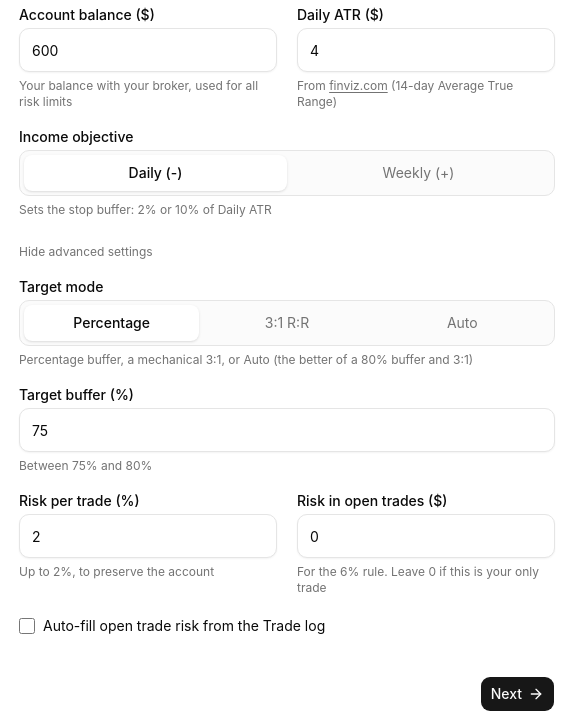
Scenario: given the advanced settings caps › given a risk above 2%: should snap the field down to 2 on blur
This screenshot has width=575, height=728.
(page scrolled)
Replace the text in the number field labelled "Risk per trade (%)" with "5" at [148, 536], box [19,514,277,558]
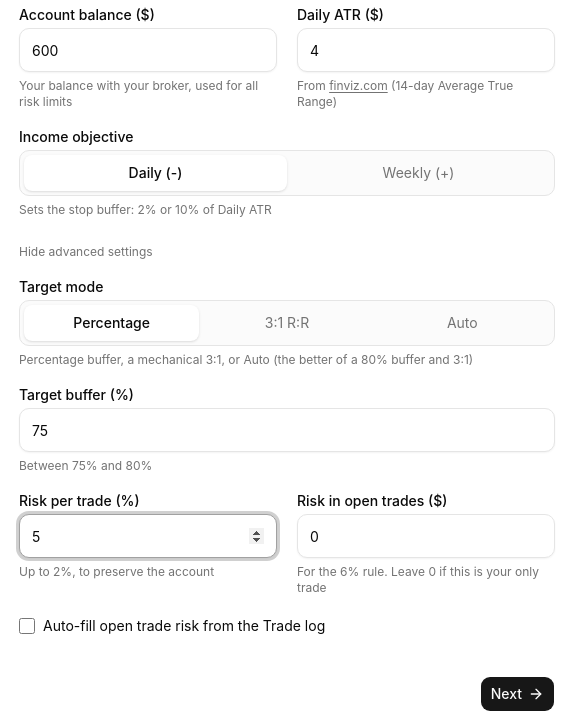
Press Tab
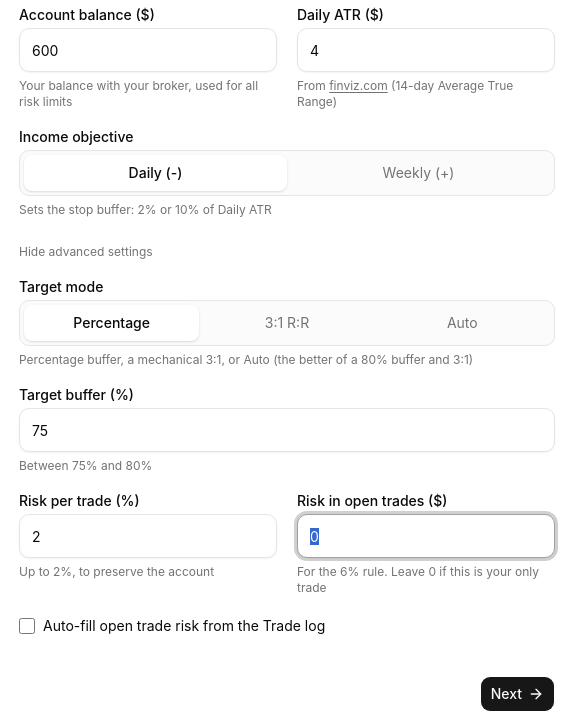
Check: the number field labelled "Risk per trade (%)" holds "2", box [19,514,277,558]
